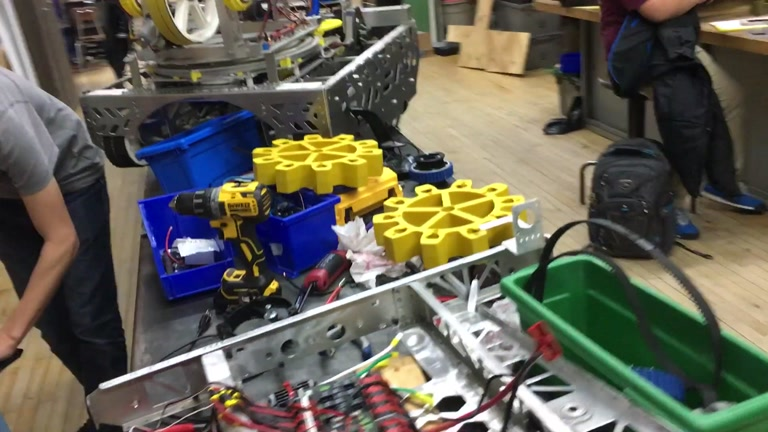gear: (372, 178, 525, 269), (251, 132, 384, 194)
